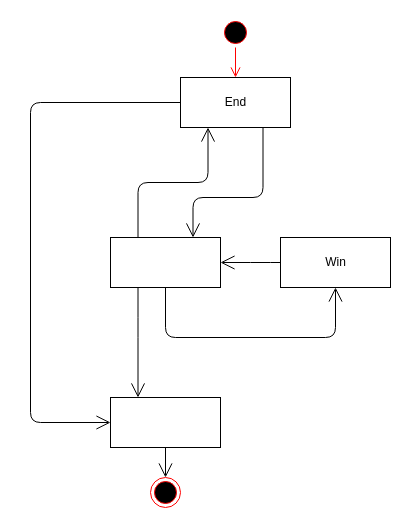
The diagram is 408 pixels wide and 525 high, and some of its shapes have lost their labels. Each missing label, with the centre of its shape:
"Exit" goes at pixel 165 422.
"Playing" goes at pixel 165 262.
